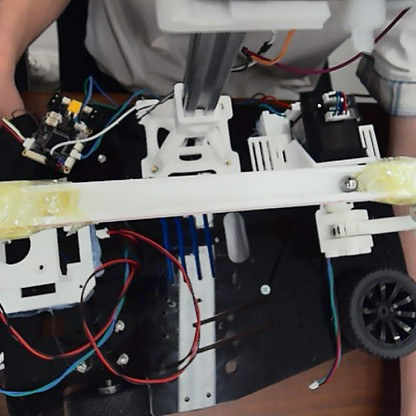ironball: (338, 171, 358, 194)
